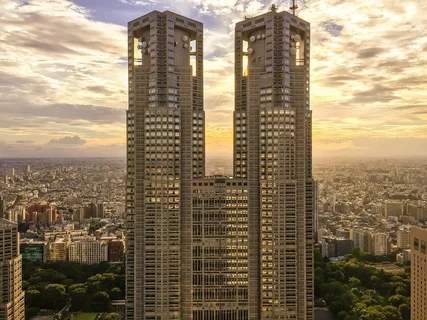high_rise_building: (120, 12, 321, 316)
